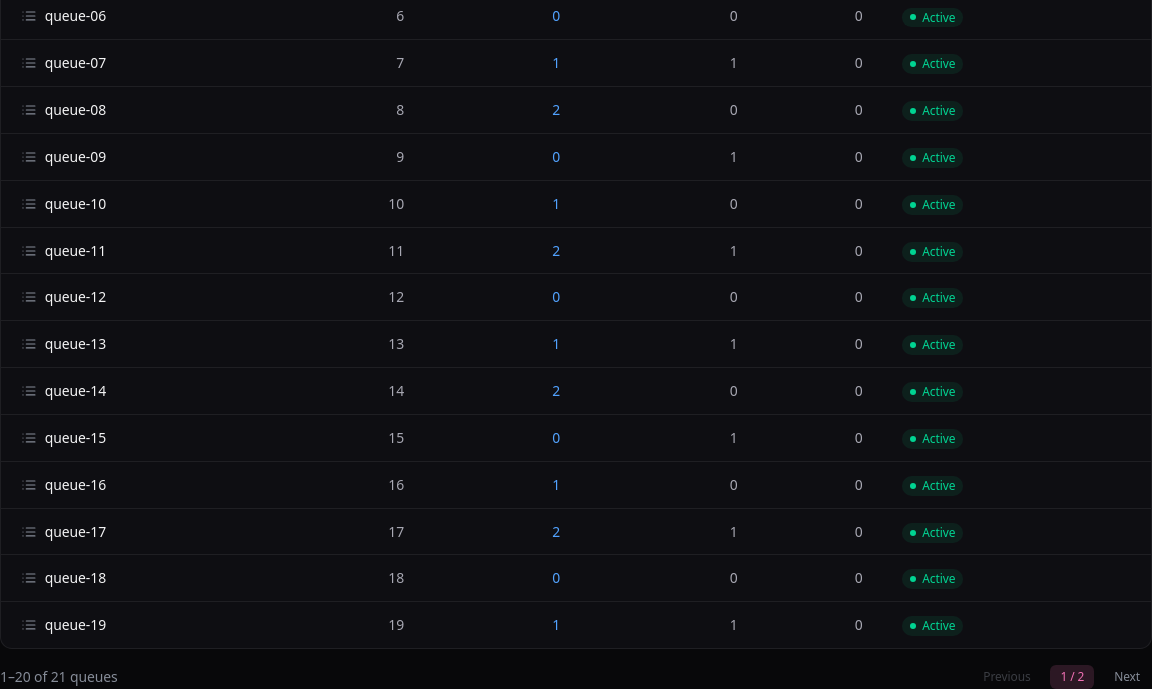
it: classic dashboard pages › Queues filters its current server page and requests the next exact offset
(page scrolled)
Click the button "Next".
click(1127, 677)  # box [1102,665,1151,688]
(page scrolled)
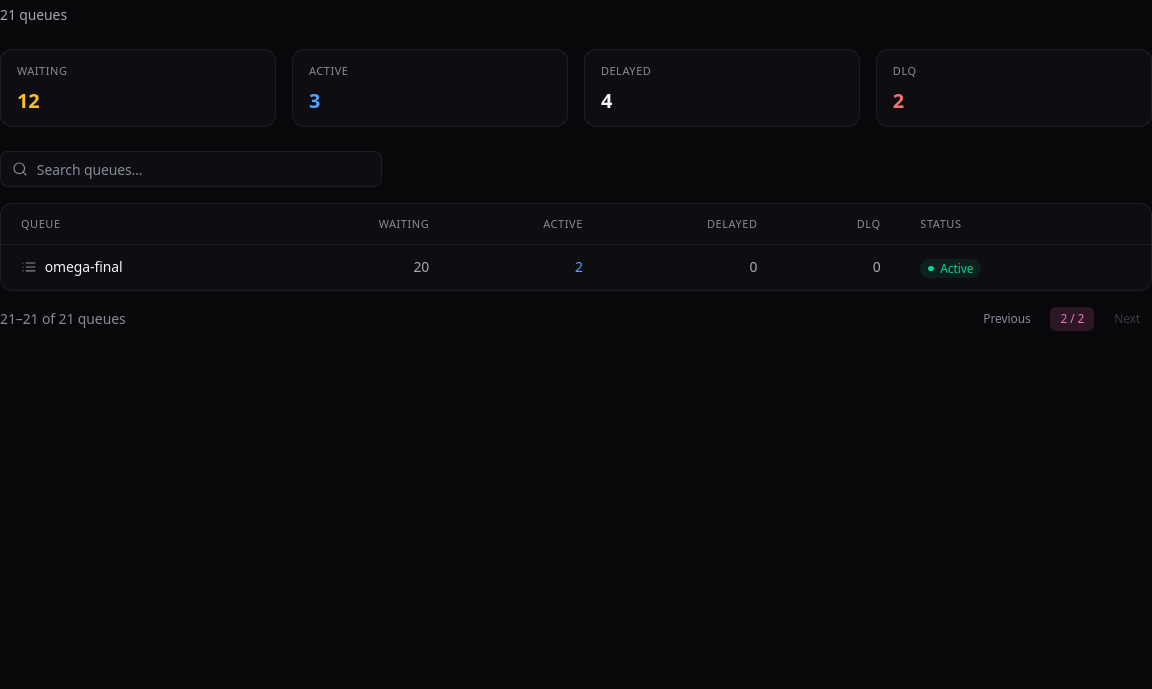
Check: the text "21–21 of 21 queues" is shown, box [0,309,126,329]
